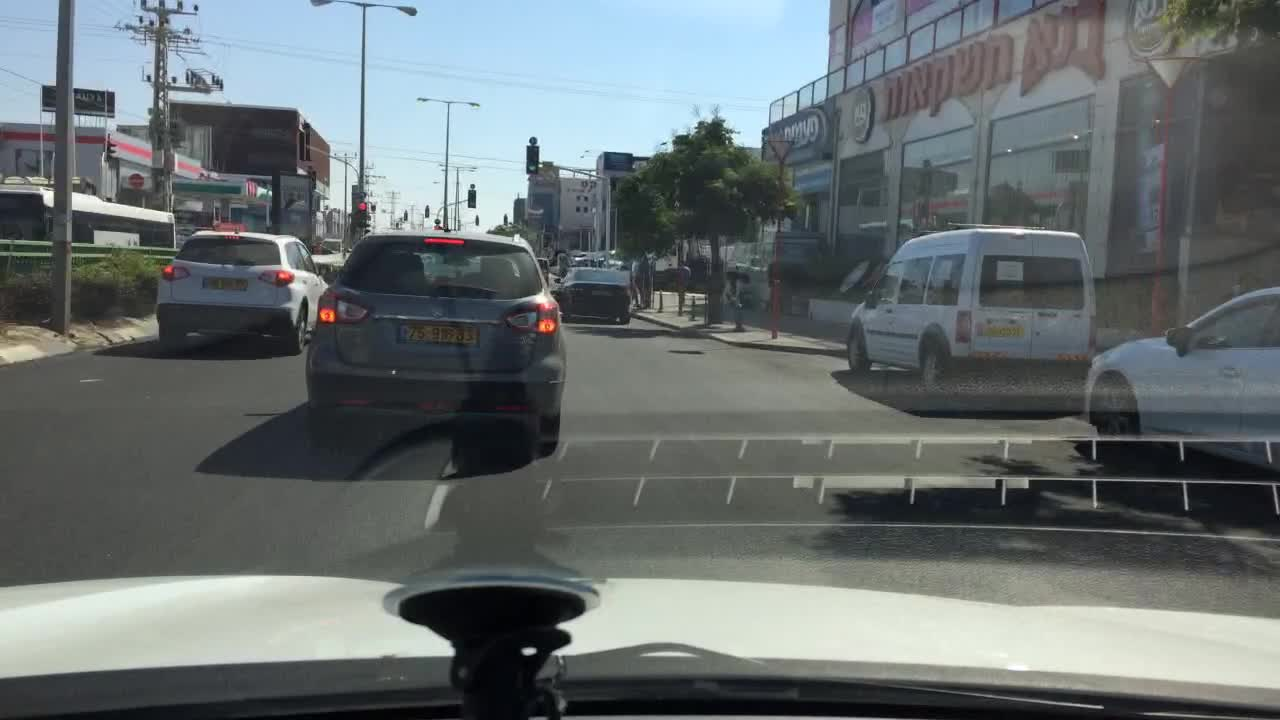bus: (0, 180, 180, 255)
car: (300, 224, 563, 453), (1080, 283, 1280, 525), (840, 224, 1100, 396), (149, 224, 331, 355), (549, 264, 632, 326), (532, 255, 555, 286)
person: (632, 256, 650, 301), (676, 257, 690, 299)
traffic light: (527, 144, 540, 174), (355, 200, 368, 229), (469, 190, 477, 210)
traffic sign: (768, 136, 794, 165), (526, 132, 540, 141)
